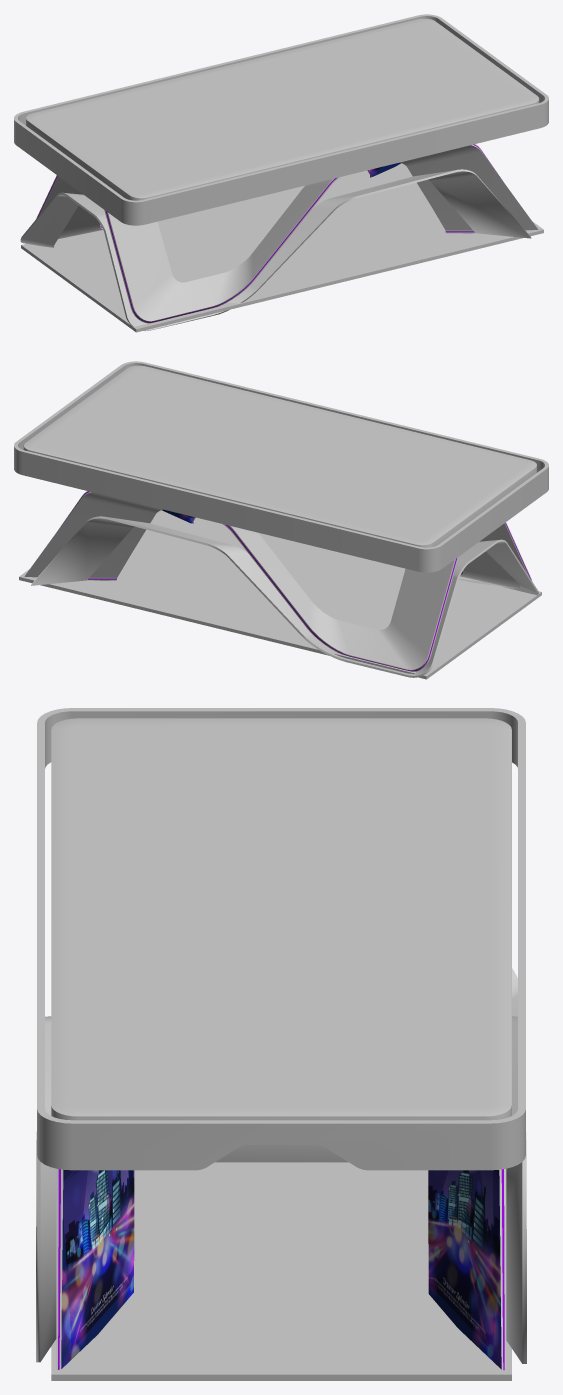
The picture shows the model from 3 angles, top to bottom: view 1: azimuth 30°, elevation 25°; view 2: azimuth 150°, elevation 25°; view 3: azimuth 270°, elevation 25°; orthographic projection. The views are drawn at different scales.
Parts seen in each view (by area): view 1: Куб.050, Куб, Куб.003, Куб.002, Куб.001; view 2: Куб.050, Куб, Куб.003, Куб.002, Куб.001; view 3: Куб.050, Куб, Куб.003, Куб.002, Куб.001.
Boxes of the visible parts, x1,y1,x2,y2 form: Куб.050: (26, 18, 539, 200); Куб: (21, 163, 543, 332); Куб.003: (14, 14, 548, 225); Куб.002: (36, 144, 538, 323); Куб.001: (20, 169, 531, 331); Куб.050: (23, 365, 536, 547); Куб: (19, 510, 541, 679); Куб.003: (14, 361, 548, 572); Куб.002: (24, 491, 531, 671); Куб.001: (31, 516, 538, 677); Куб.050: (51, 718, 511, 1162); Куб: (51, 1162, 511, 1380); Куб.003: (37, 708, 525, 1170); Куб.002: (56, 1168, 506, 1370); Куб.001: (36, 968, 526, 1363).
Bounding box in the file's own units: 12680 × 3867 × 6328.
